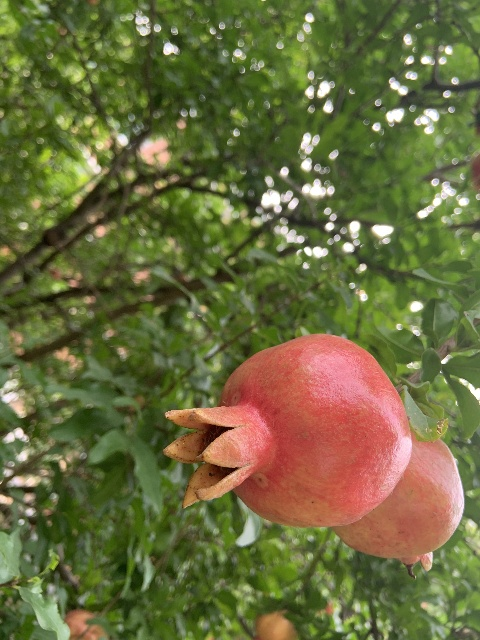ripe: (161, 333, 412, 528), (331, 430, 465, 571)
